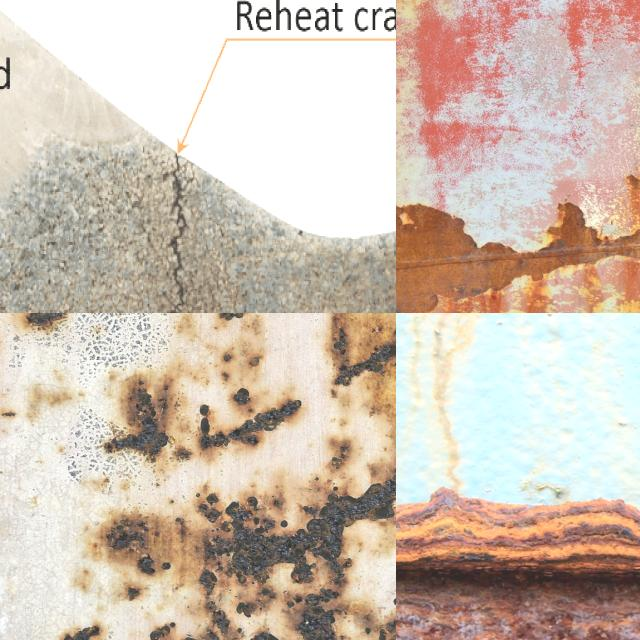Crack: (166, 154, 205, 313)
Pitting Corrosion: (190, 426, 396, 637), (166, 313, 264, 416), (90, 511, 213, 585), (202, 588, 338, 640), (104, 376, 172, 462), (329, 313, 396, 387), (201, 400, 301, 448), (58, 621, 105, 640), (27, 313, 67, 334), (127, 587, 140, 600)
Uniform Corrosion: (396, 488, 640, 574), (548, 202, 600, 249)
